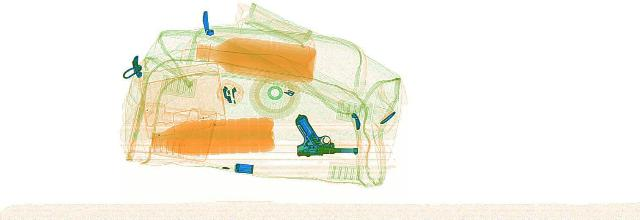Gun: (256, 114, 356, 158)
